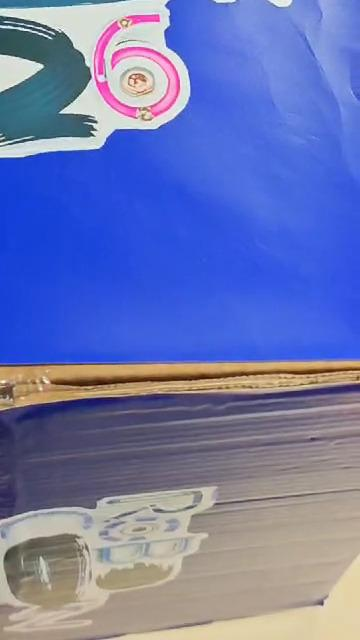B_R1: (0, 0, 333, 175)
